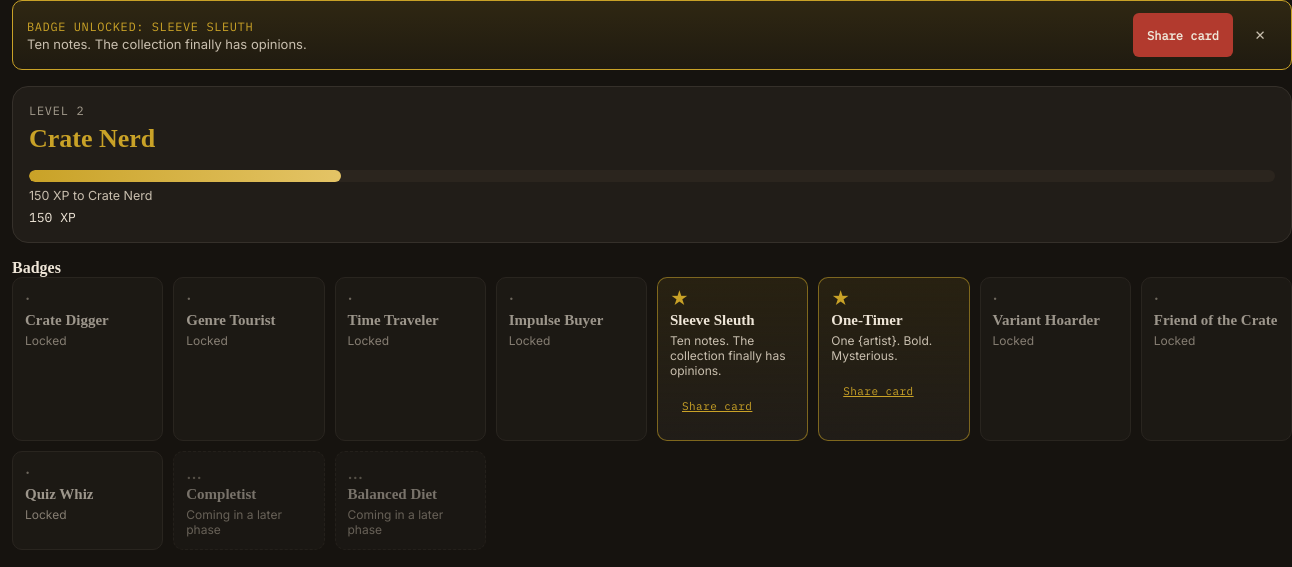
Test case: ProgressionPanel (release 1.2) › pauses the toast auto-dismiss on hover/focus so the Share can't be missed
Hover over the message: x=652, y=35 [12,0,1291,70]
Move the pointer off the message, box [12,0,1291,70]
Wait 6000 ms
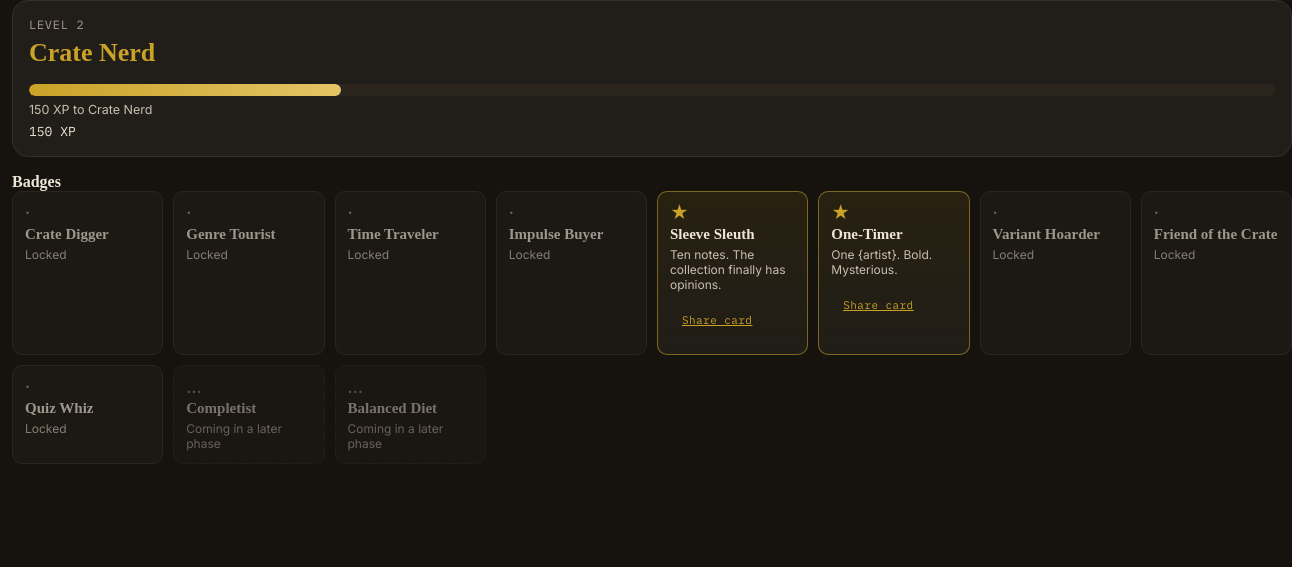
Now the message is gone
